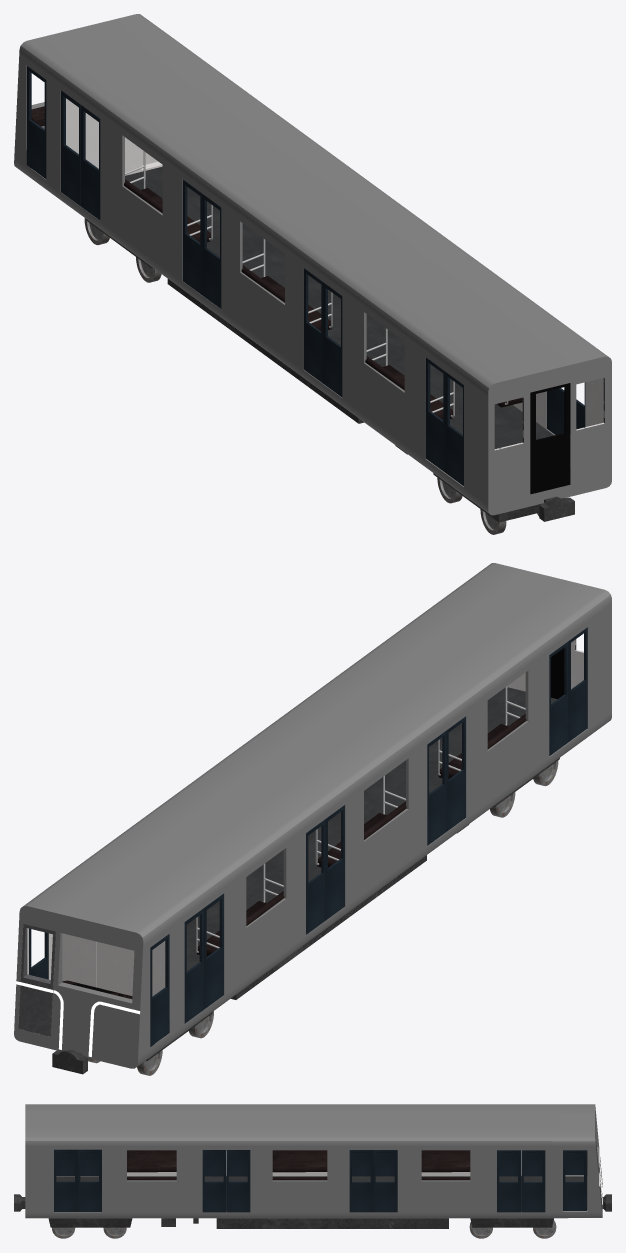
The model's file is stylized_subway_train (1).glb.
The picture shows the model from 3 angles, top to bottom: view 1: azimuth 30°, elevation 25°; view 2: azimuth 150°, elevation 25°; view 3: azimuth 270°, elevation 25°; orthographic projection. The views are drawn at different scales.
Parts seen in each view (by area): view 1: Wagon_passenger_1, WagonDoor_0, Cube_79, WagonDoorWide.012_30, WagonDoorWide.008_26, WagonDoorWide.014_32, WagonDoorWide.016_80, WagonDoorWide.010_28, WagonDoorWide.009_27, WagonDoorWide.011_29, WagonDoorWide.015_33, WagonDoorWide.013_31 (+6 smaller); view 2: Wagon_passenger_1, Cube_79, HoldDoor_82, Cube.006_89, WagonDoorWide.009_27, WagonDoorWide.010_28, WagonDoorWide.012_30, WagonDoorWide.016_80, WagonDoorWide.011_29, WagonDoorWide.015_33, WagonDoorWide.008_26, WagonDoorWide.013_31 (+6 smaller); view 3: Wagon_passenger_1, Bogey.003_3, PassengerSeat.005_95, PassengerSeat.003_94, PassengerSeat.006_96, WagonDoorWide.017_18, WagonDoorWide.001_19, WagonDoorWide.004_22, WagonDoorWide.005_23, WagonDoorWide.006_24, WagonDoorWide.002_20, WagonDoorWide.003_21 (+18 smaller).
Boxes of the visible parts, x1,y1,x2,y2 form: Wagon_passenger_1: (14, 14, 611, 515); WagonDoor_0: (530, 383, 570, 494); Cube_79: (66, 98, 162, 175); WagonDoorWide.012_30: (182, 179, 202, 294); WagonDoorWide.008_26: (303, 268, 323, 383); WagonDoorWide.014_32: (425, 357, 445, 472); WagonDoorWide.016_80: (26, 66, 46, 178); WagonDoorWide.010_28: (61, 90, 80, 206); WagonDoorWide.009_27: (81, 105, 100, 220); WagonDoorWide.011_29: (202, 194, 221, 308); WagonDoorWide.015_33: (323, 282, 342, 397); WagonDoorWide.013_31: (445, 372, 463, 485); Wagon_passenger_1: (14, 563, 611, 1068); Cube_79: (62, 933, 165, 996); HoldDoor_82: (18, 924, 55, 1036); Cube.006_89: (63, 933, 96, 987); WagonDoorWide.009_27: (204, 893, 223, 1009); WagonDoorWide.010_28: (184, 908, 203, 1023); WagonDoorWide.012_30: (306, 819, 325, 934); WagonDoorWide.016_80: (150, 934, 169, 1046); WagonDoorWide.011_29: (325, 805, 344, 920); WagonDoorWide.015_33: (446, 716, 465, 831); WagonDoorWide.008_26: (427, 731, 446, 845); WagonDoorWide.013_31: (568, 627, 587, 741); Wagon_passenger_1: (25, 1104, 602, 1218); Bogey.003_3: (216, 1218, 448, 1228); PassengerSeat.005_95: (272, 1150, 327, 1172); PassengerSeat.003_94: (127, 1150, 176, 1172); PassengerSeat.006_96: (421, 1150, 470, 1172); WagonDoorWide.017_18: (226, 1150, 250, 1212); WagonDoorWide.001_19: (202, 1150, 226, 1212); WagonDoorWide.004_22: (373, 1150, 397, 1212); WagonDoorWide.005_23: (349, 1150, 373, 1212); WagonDoorWide.006_24: (521, 1150, 545, 1212); WagonDoorWide.002_20: (78, 1149, 101, 1211); WagonDoorWide.003_21: (54, 1149, 77, 1211).
Bounding box in the file's own units: 3.6 × 4.96 × 24.71.
Materials: 50 (33 with a texture image).
